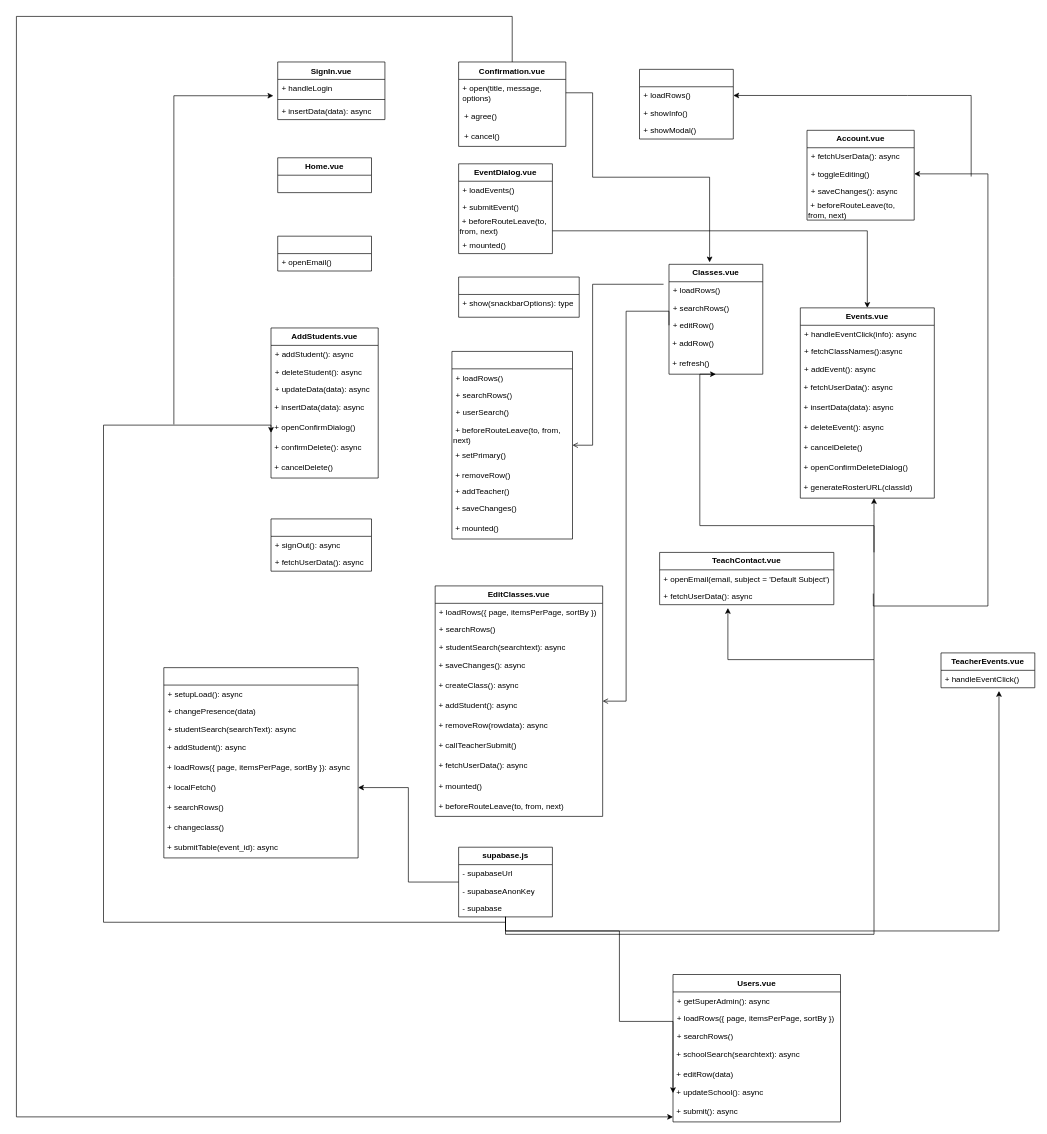
This 1047x1134 diagram has some shape labels left out. The shapes that lost their labels are listed below. From the top down, each one's box as (x1, y1, x2, y2) in pixels, then its label:
(639, 69, 733, 139): Dashboard.vue
(277, 236, 372, 271): Contact.vue
(458, 276, 579, 317): snackbar.vue
(451, 351, 573, 539): EditTeachers.vue
(270, 518, 372, 571): Default.vue
(163, 667, 358, 858): Roster.vue
